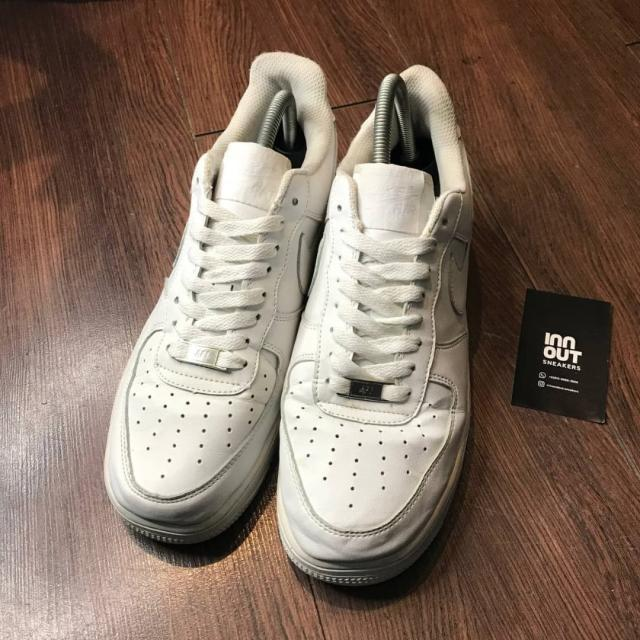nike fake air force: (104, 52, 346, 550), (278, 54, 489, 590)
